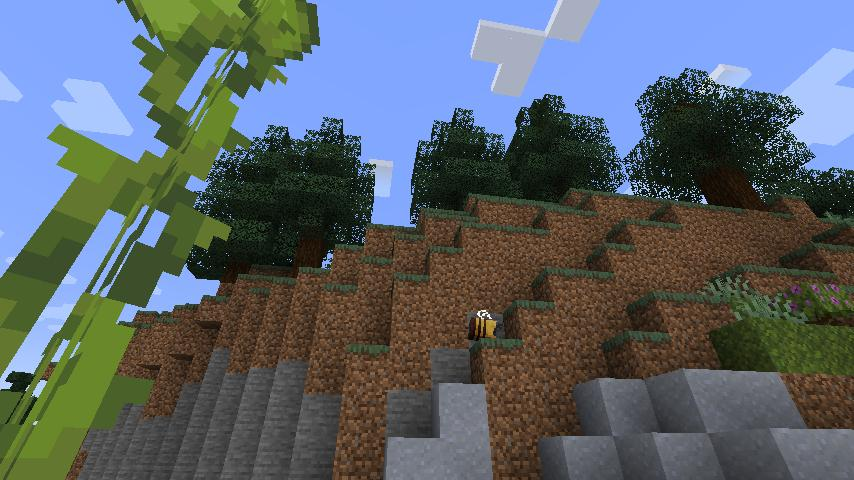bee: (464, 307, 499, 343)
